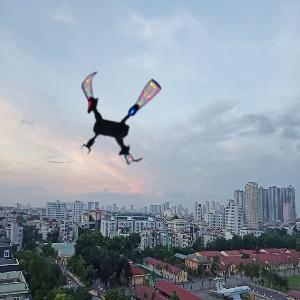drone: (65, 63, 168, 166)
